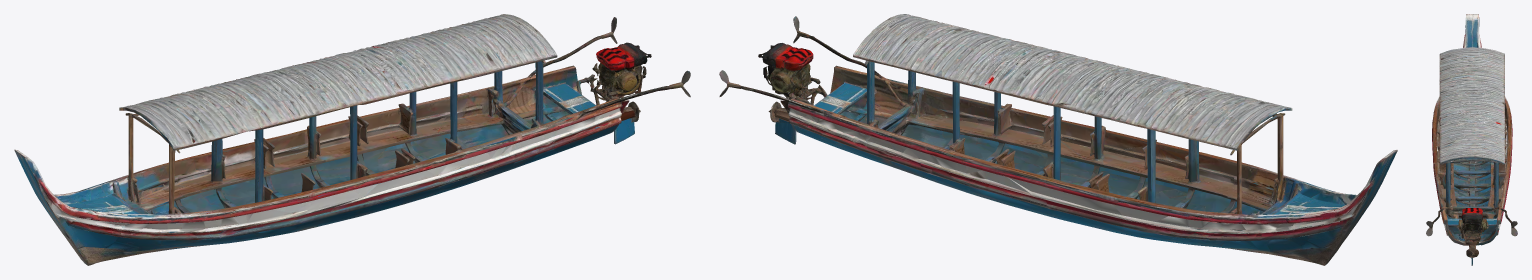
Rendered from longtail-boat.glb.
3 renders of one model, left to right at view 1: azimuth 30°, elevation 25°; view 2: azimuth 150°, elevation 25°; view 3: azimuth 270°, elevation 25°, orthographic. The views are drawn at different scales.
Parts seen in each view (by area): view 1: Mesh_0; view 2: Mesh_0; view 3: Mesh_0.
Part boxes in pixels (left/top/right/bottom): Mesh_0: left=14, top=14, right=690, bottom=265; Mesh_0: left=719, top=14, right=1397, bottom=265; Mesh_0: left=1426, top=14, right=1517, bottom=265.
Size of the model in its own units: 0.9995 by 0.214 by 0.2144.
1 material, 1 textured.
